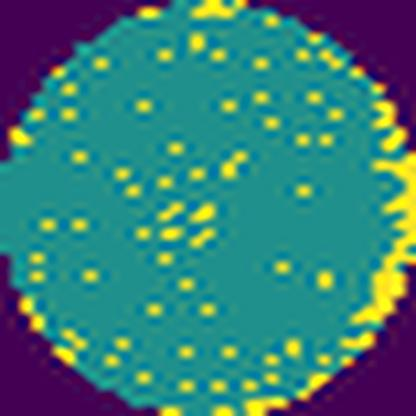Edge-Loc: (349, 148, 415, 324)
